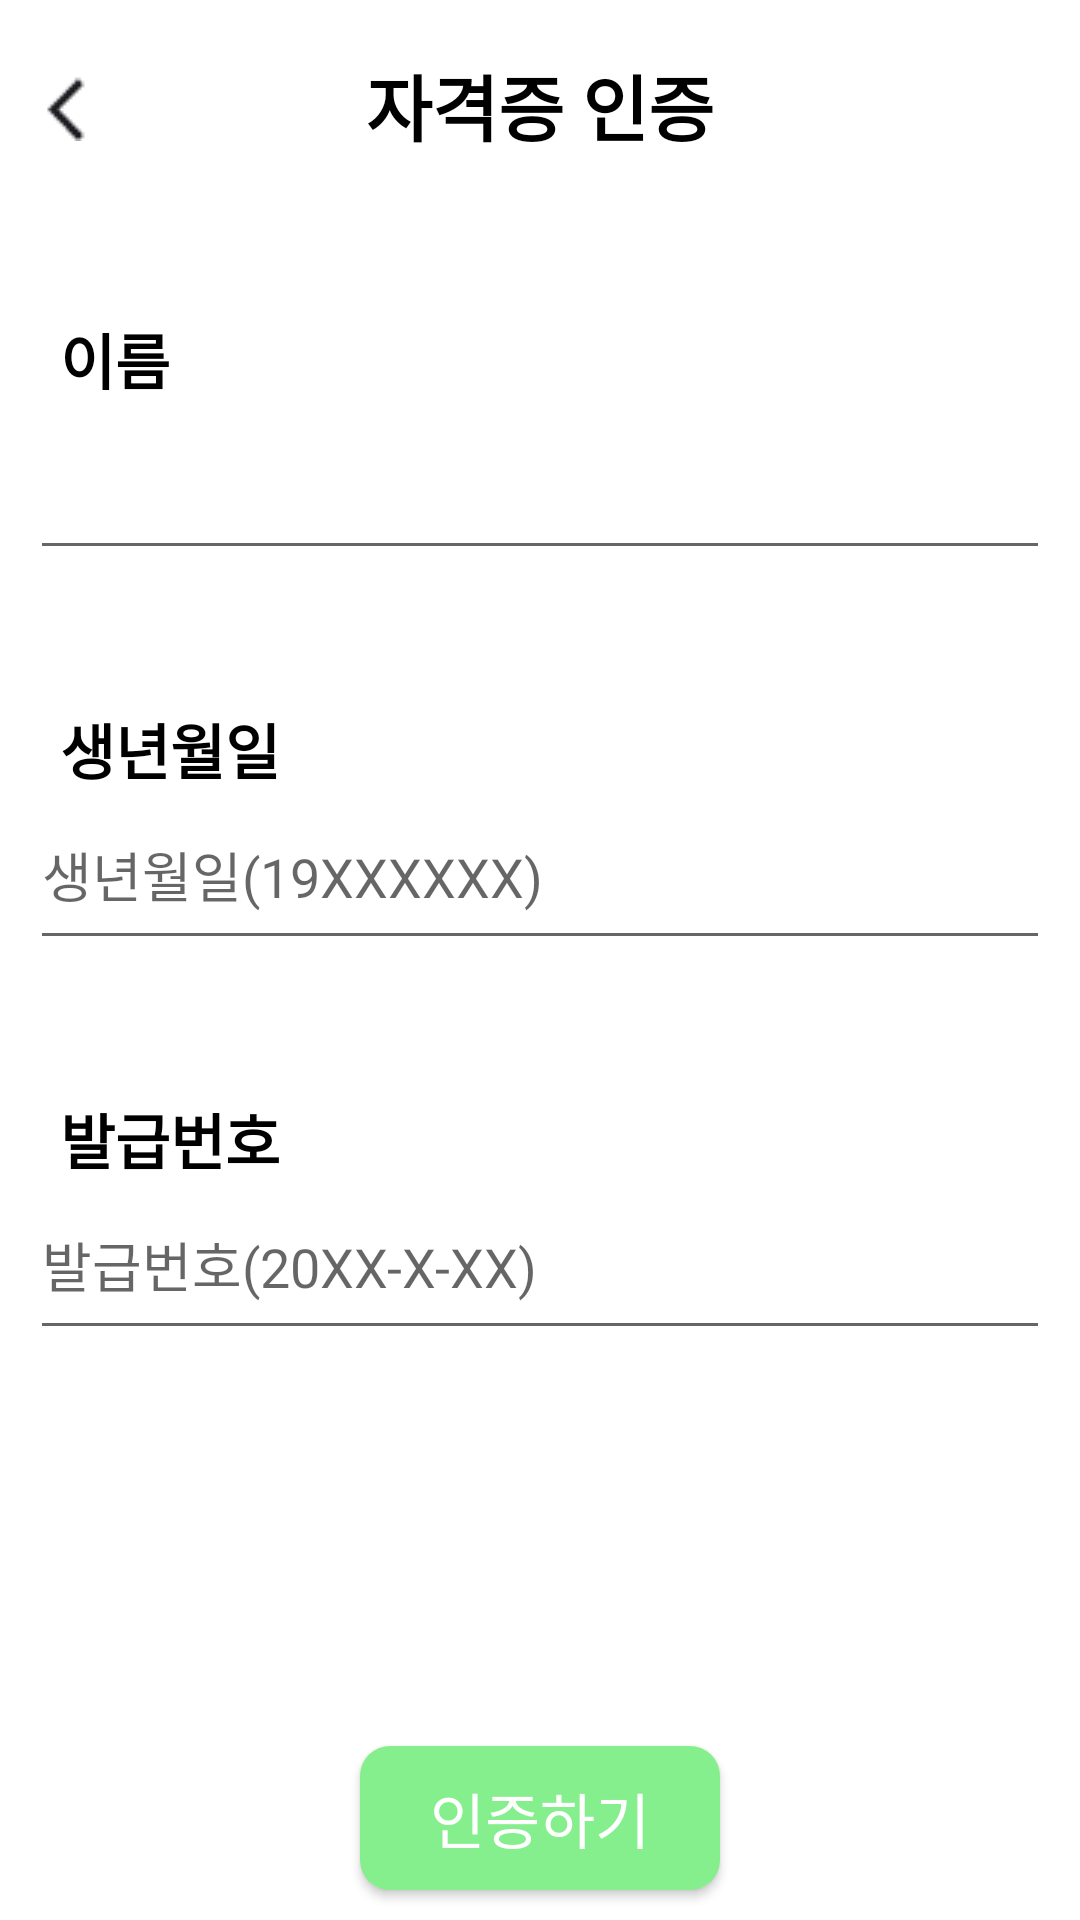

Icons on this 1080w x 1920h Android screen, each with the point to tap as (x,y):
arrow back: (66,109)
